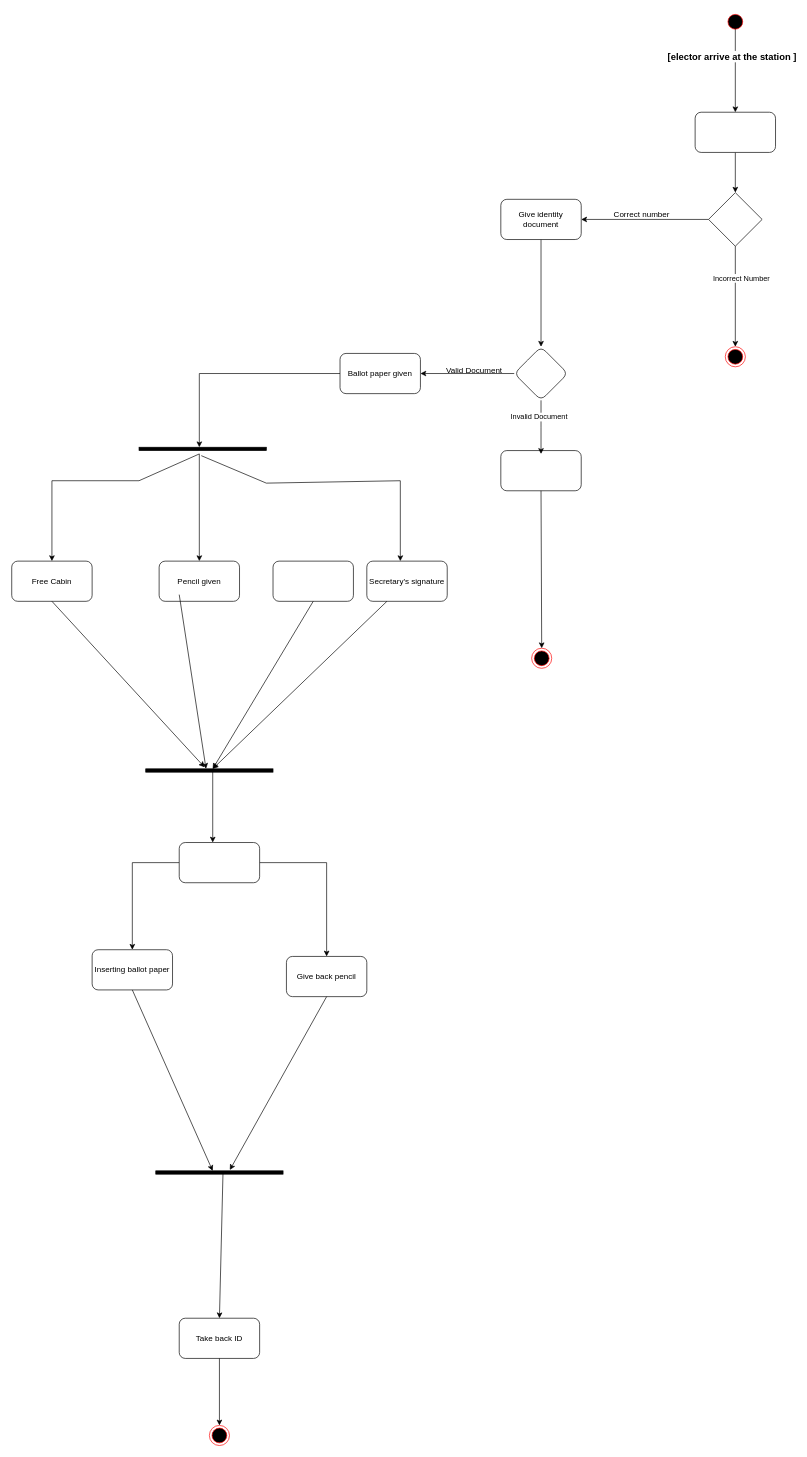
Image size: 807x1457. Some labels were removed from this diagram. Here are the shapes that lost their labels. From the top down, the centre of each, then its label:
At [735,132]: "Give electoral card".
At [540,470]: "Give back card".
At [312,580]: "Printing Card".
At [219,862]: "Vote".
